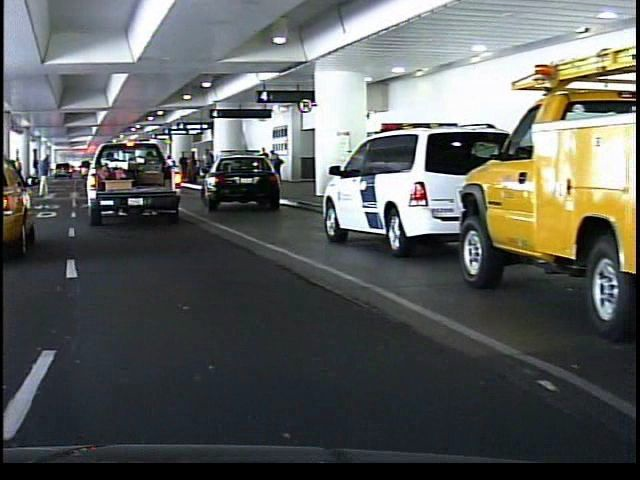person: (35, 151, 51, 199)
